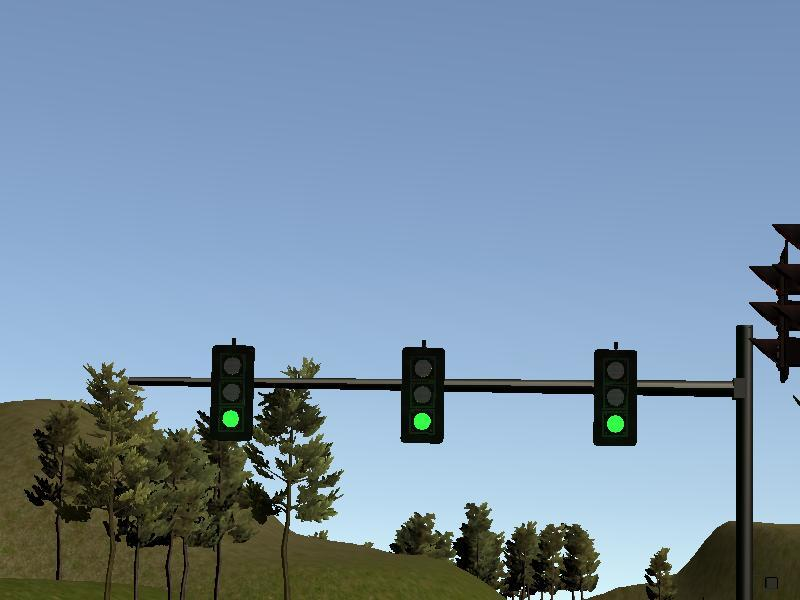Green: (596, 349, 635, 445), (404, 347, 443, 442), (214, 346, 250, 436)
